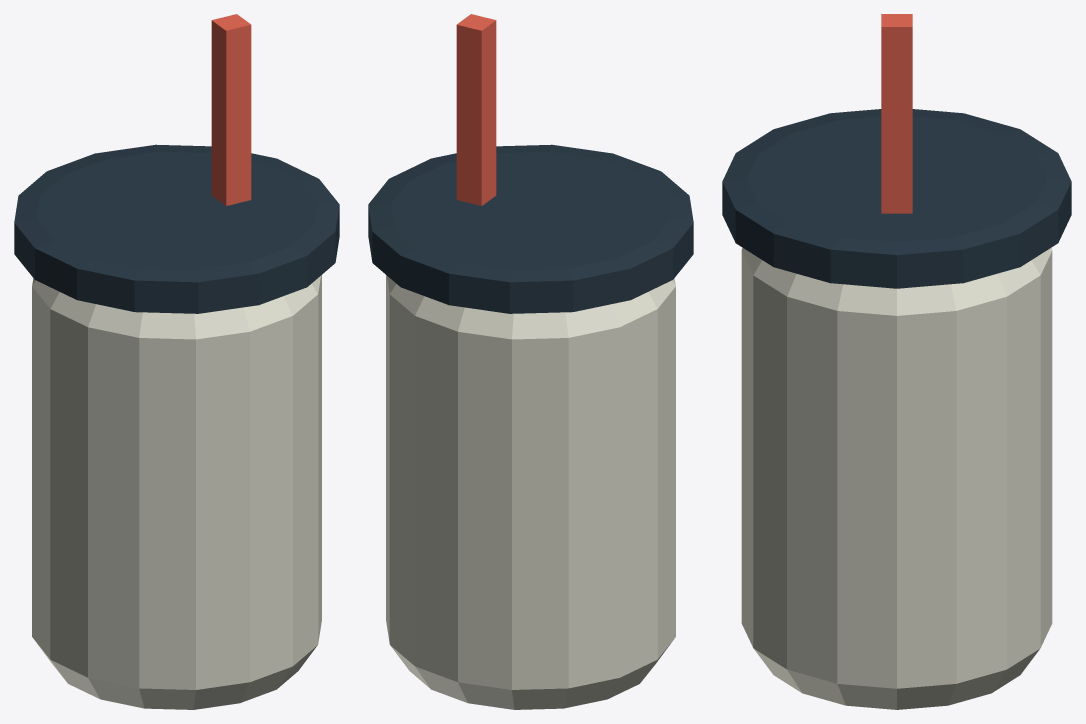
Rendered from horror_cup.obj.
3 views of the same model, side by side, from view 1: azimuth 30°, elevation 25°; view 2: azimuth 150°, elevation 25°; view 3: azimuth 270°, elevation 25° (orthographic). The views are drawn at different scales.
Visible parts, largest first — view 1: Cup, Lid, Straw; view 2: Cup, Lid, Straw; view 3: Cup, Lid, Straw.
Boxes of the visible parts, left/top/right/bottom form: Cup: left=32, top=275, right=321, bottom=709; Lid: left=14, top=144, right=339, bottom=313; Straw: left=211, top=14, right=251, bottom=205; Cup: left=386, top=275, right=675, bottom=709; Lid: left=368, top=144, right=693, bottom=313; Straw: left=456, top=14, right=496, bottom=205; Cup: left=741, top=248, right=1052, bottom=709; Lid: left=722, top=109, right=1071, bottom=288; Straw: left=881, top=14, right=912, bottom=213.
Size of the model in its own units: 0.73 by 1.52 by 0.73.
